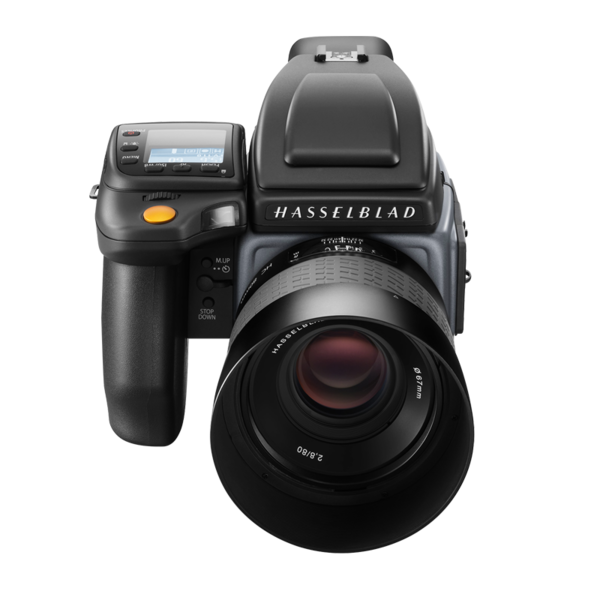kamera: (85, 32, 489, 568)
